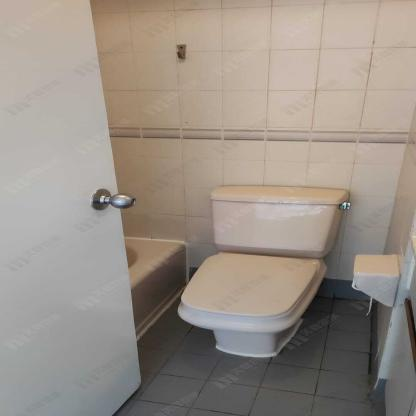Toilet: (171, 184, 351, 356)
